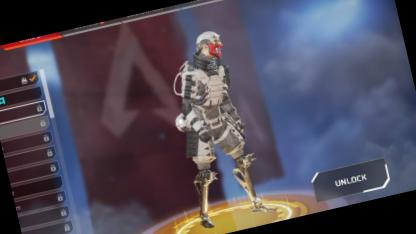Target: (158, 24, 260, 191)
